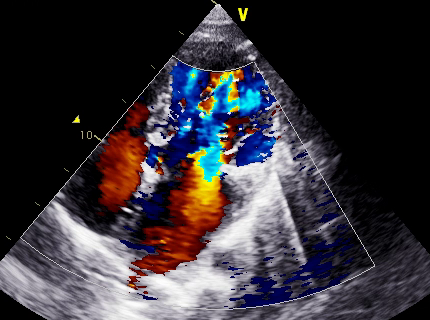MR: (166, 121, 246, 204)
